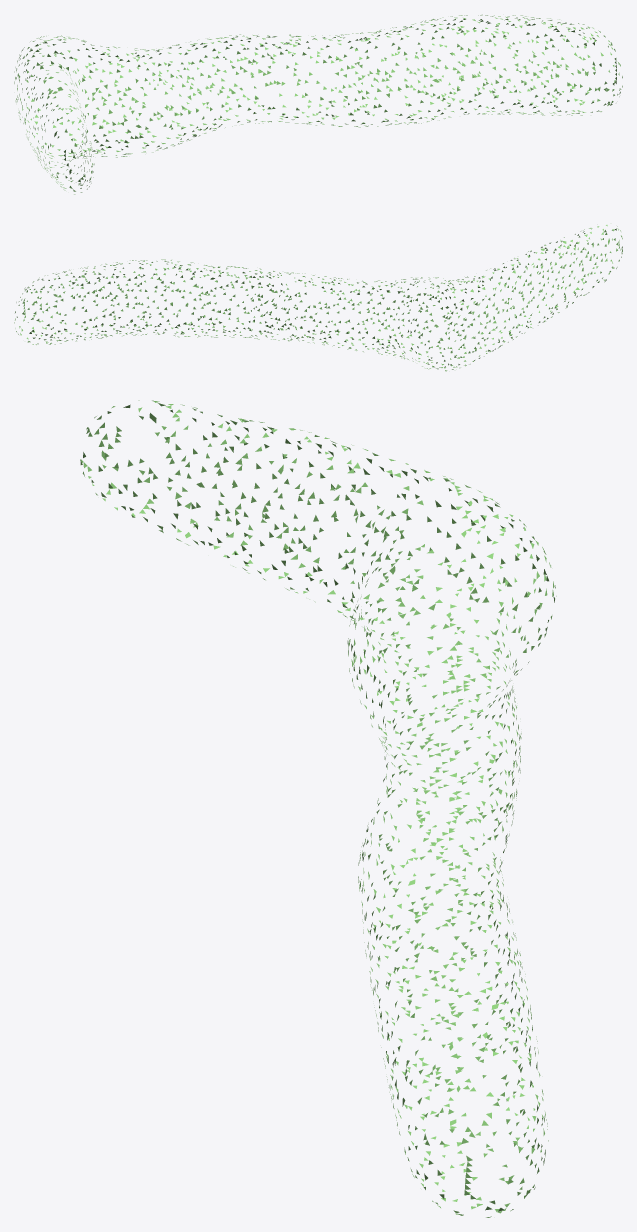
Rendered from morph_015.glb.
The picture shows the model from 3 angles, top to bottom: view 1: azimuth 30°, elevation 25°; view 2: azimuth 150°, elevation 25°; view 3: azimuth 270°, elevation 25°; orthographic projection. The views are drawn at different scales.
Size of the model in its own units: 123 by 39.84 by 49.77.
